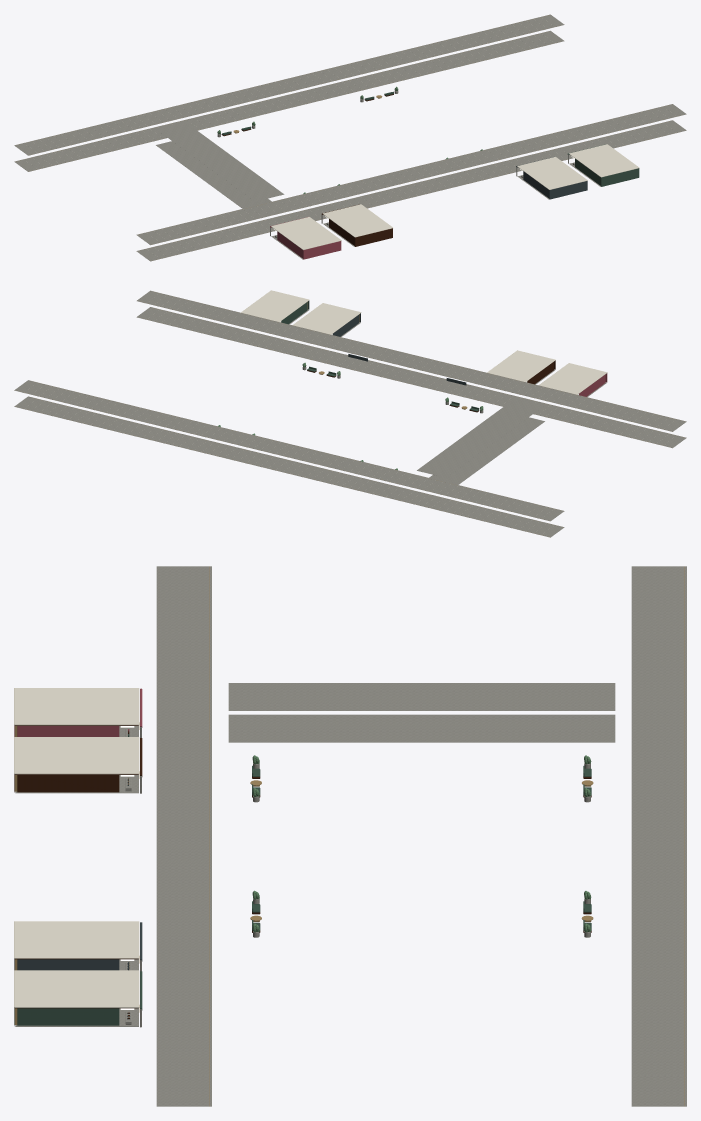
File: fitout.glb
3 renders of one model, top to bottom at view 1: azimuth 30°, elevation 25°; view 2: azimuth 150°, elevation 25°; view 3: azimuth 270°, elevation 25°, orthographic. The views are drawn at different scales.
Parts seen in each view (by area): view 1: Fitout Travertine, Fitout Warm porcelain, Fitout Sage upholstery, Fitout Walnut, Fitout Burgundy, Fitout Ink; view 2: Fitout Travertine, Fitout Warm porcelain, Fitout Sage upholstery, Fitout Ink; view 3: Fitout Travertine, Fitout Warm porcelain, Fitout Walnut, Fitout Sage upholstery, Fitout Bronze, Fitout Ink, Fitout Burgundy.
Part boxes in pixels (x1=…): Fitout Travertine: x1=14, y1=14, x2=686, y2=261; Fitout Warm porcelain: x1=271, y1=144, x2=639, y2=249; Fitout Sage upholstery: x1=222, y1=91, x2=639, y2=186; Fitout Walnut: x1=221, y1=94, x2=393, y2=246; Fitout Burgundy: x1=270, y1=217, x2=341, y2=259; Fitout Ink: x1=516, y1=157, x2=587, y2=199; Fitout Travertine: x1=14, y1=290, x2=686, y2=537; Fitout Warm porcelain: x1=241, y1=290, x2=607, y2=394; Fitout Sage upholstery: x1=281, y1=301, x2=479, y2=411; Fitout Ink: x1=333, y1=313, x2=466, y2=385; Fitout Travertine: x1=15, y1=566, x2=686, y2=1106; Fitout Warm porcelain: x1=14, y1=688, x2=139, y2=1007; Fitout Walnut: x1=14, y1=725, x2=591, y2=1018; Fitout Sage upholstery: x1=14, y1=734, x2=591, y2=1025; Fitout Bronze: x1=14, y1=566, x2=684, y2=1106; Fitout Ink: x1=14, y1=779, x2=142, y2=1019; Fitout Burgundy: x1=14, y1=688, x2=142, y2=736.
Size of the model in its own units: 218 by 6.44 by 122.
Materials: 9 (3 with a texture image).
